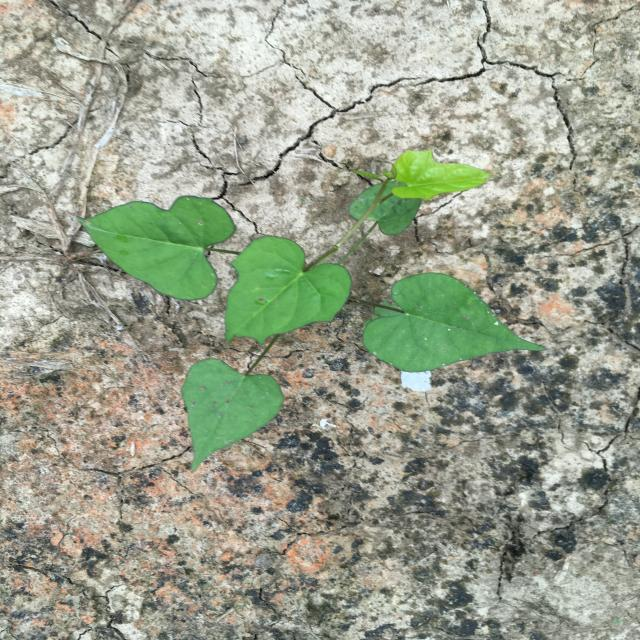MorningGlory: (77, 148, 546, 474)
